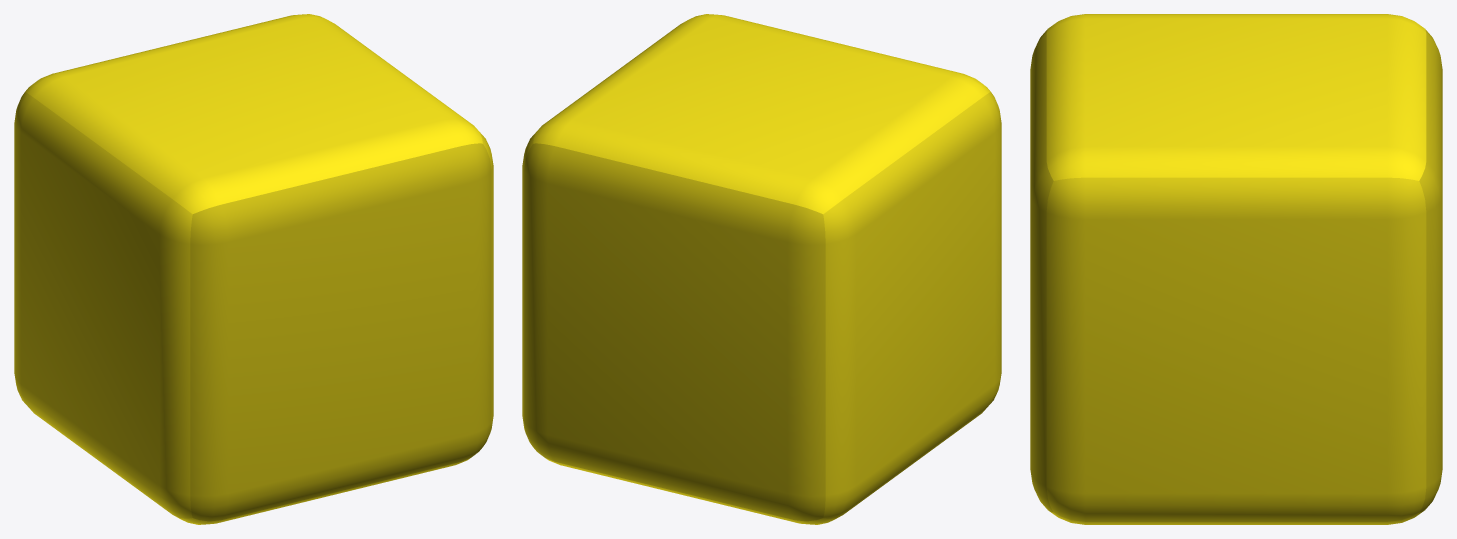
File: yellow_cube.fbx
The picture shows the model from 3 angles, left to right: view 1: azimuth 30°, elevation 25°; view 2: azimuth 150°, elevation 25°; view 3: azimuth 270°, elevation 25°; orthographic projection. The views are drawn at different scales.
Parts seen in each view (by area): view 1: cube yellow; view 2: cube yellow; view 3: cube yellow.
Part boxes in pixels (x1,y1,x2,y2): cube yellow: (14, 14, 493, 524); cube yellow: (522, 14, 1001, 524); cube yellow: (1030, 14, 1442, 524).
Size of the model in its own units: 84 by 84 by 84.
